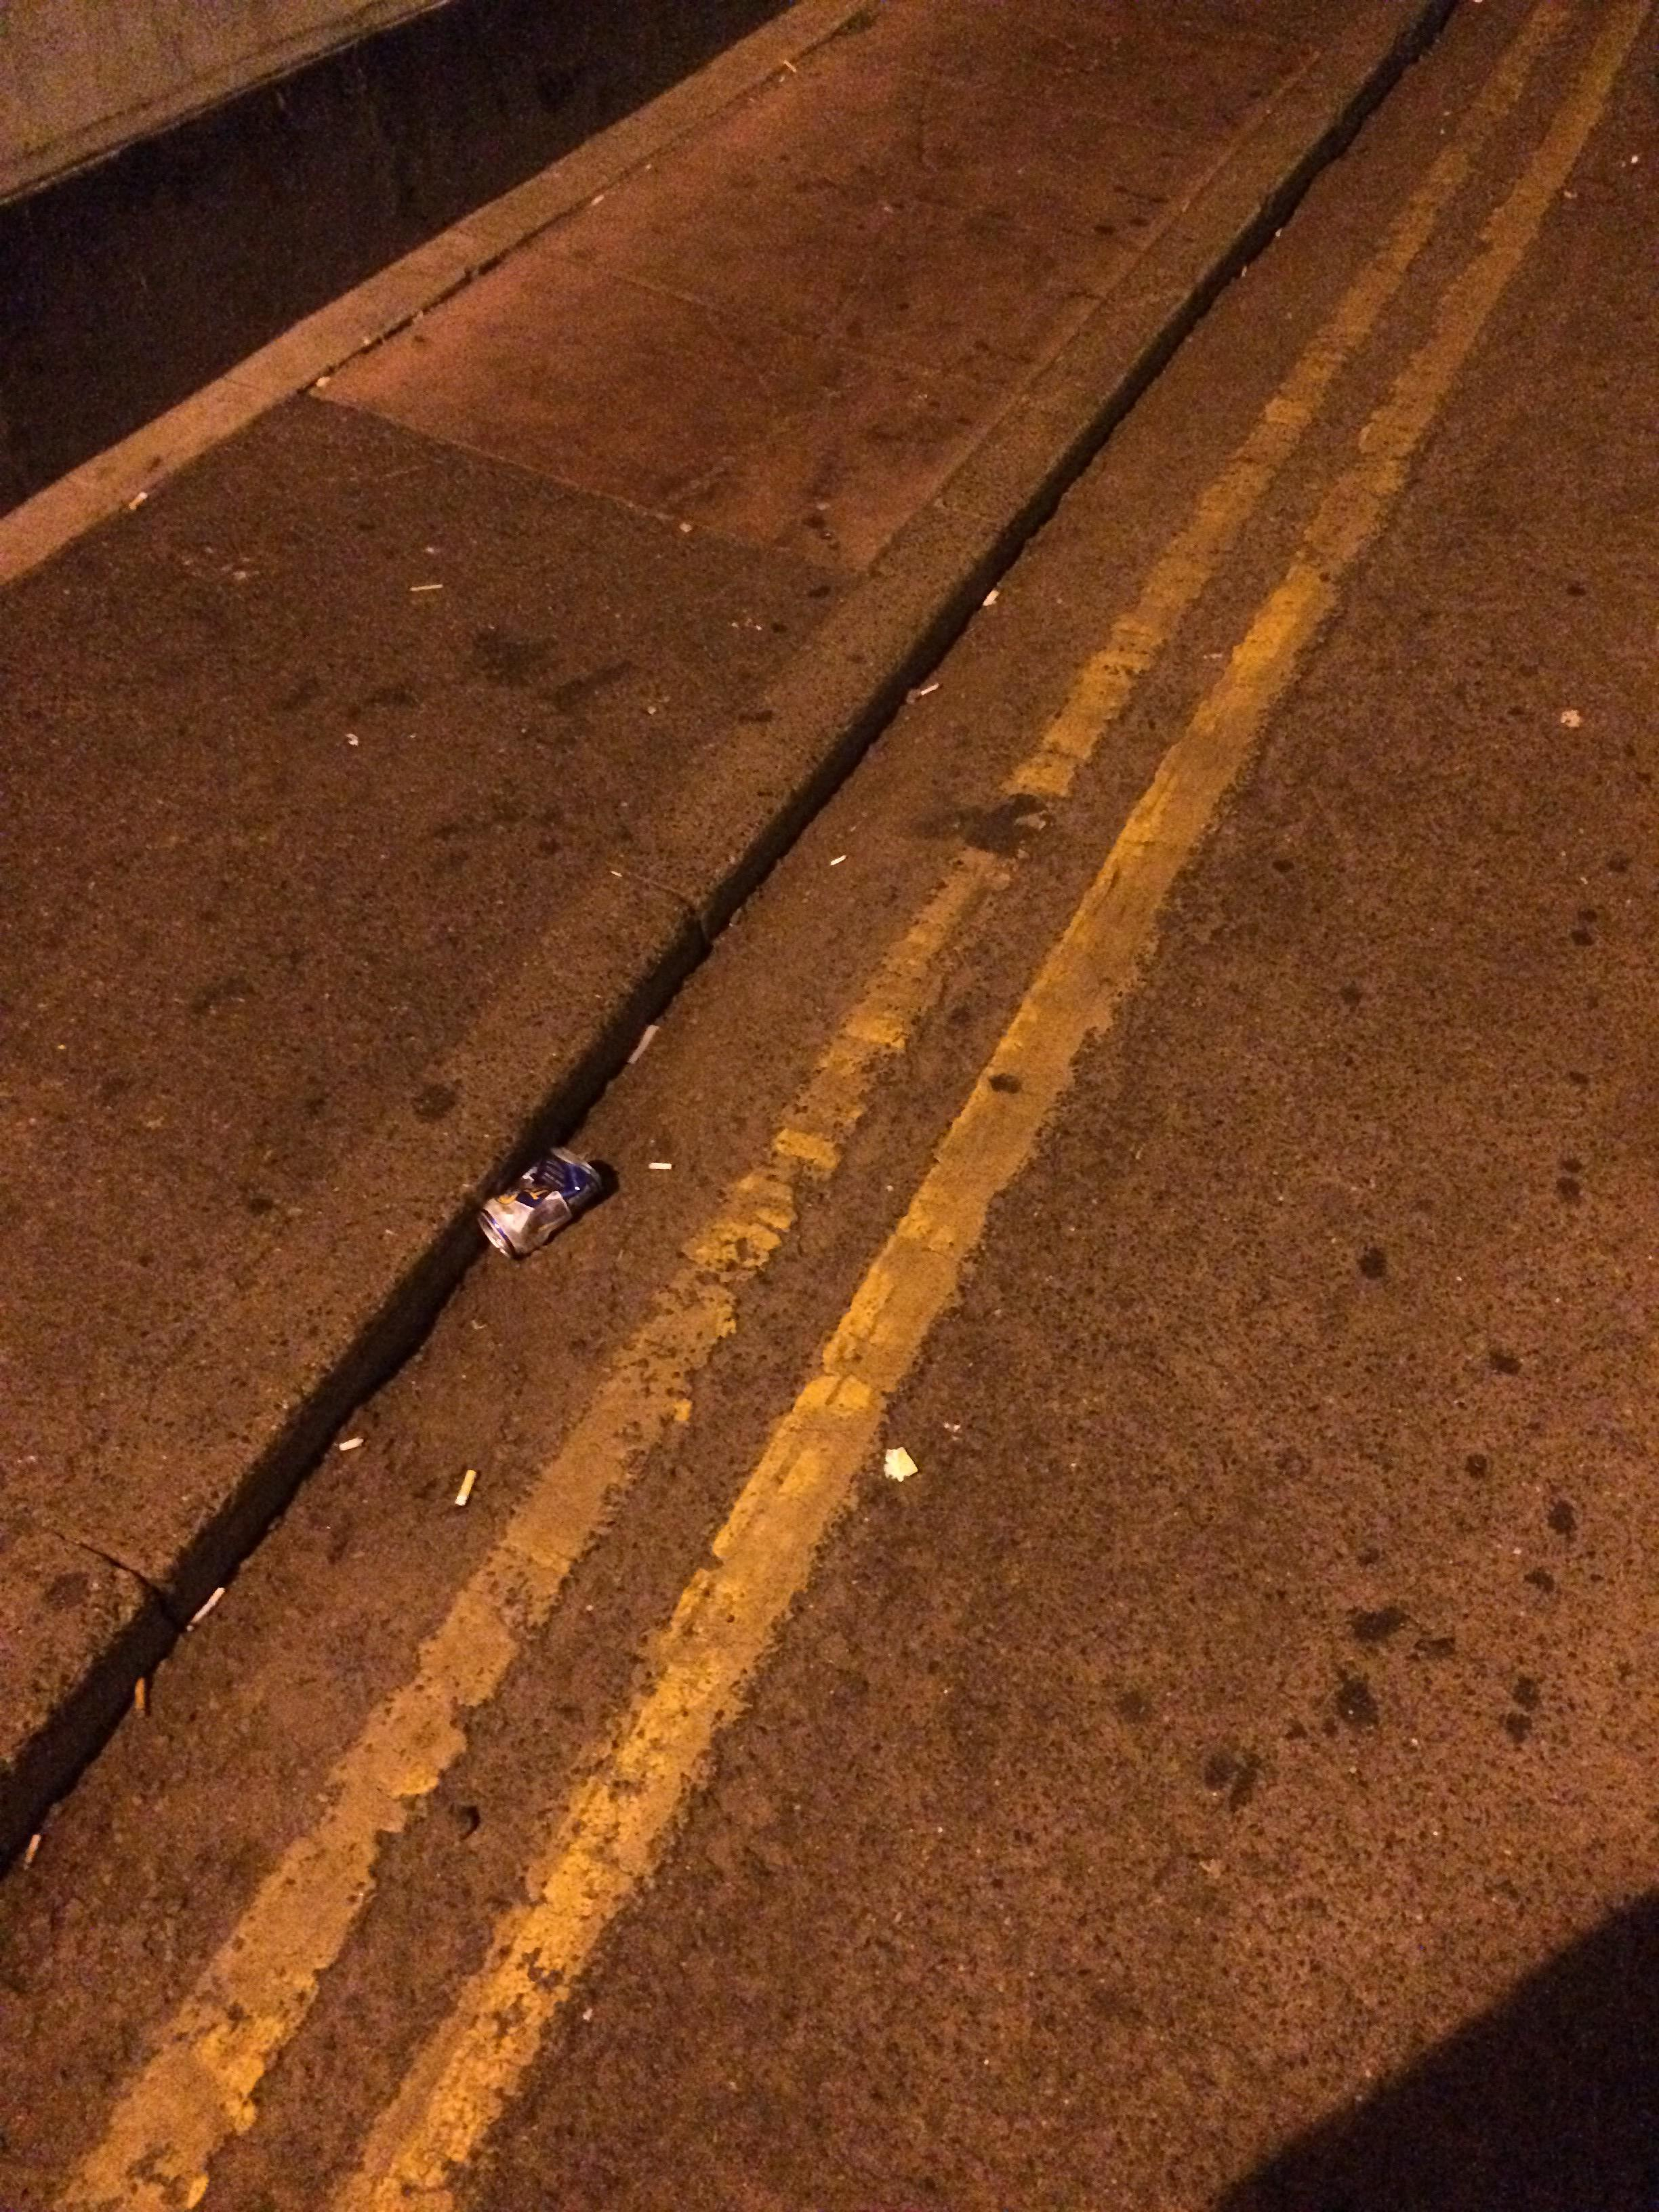Trash: (453, 1137, 620, 1258)
